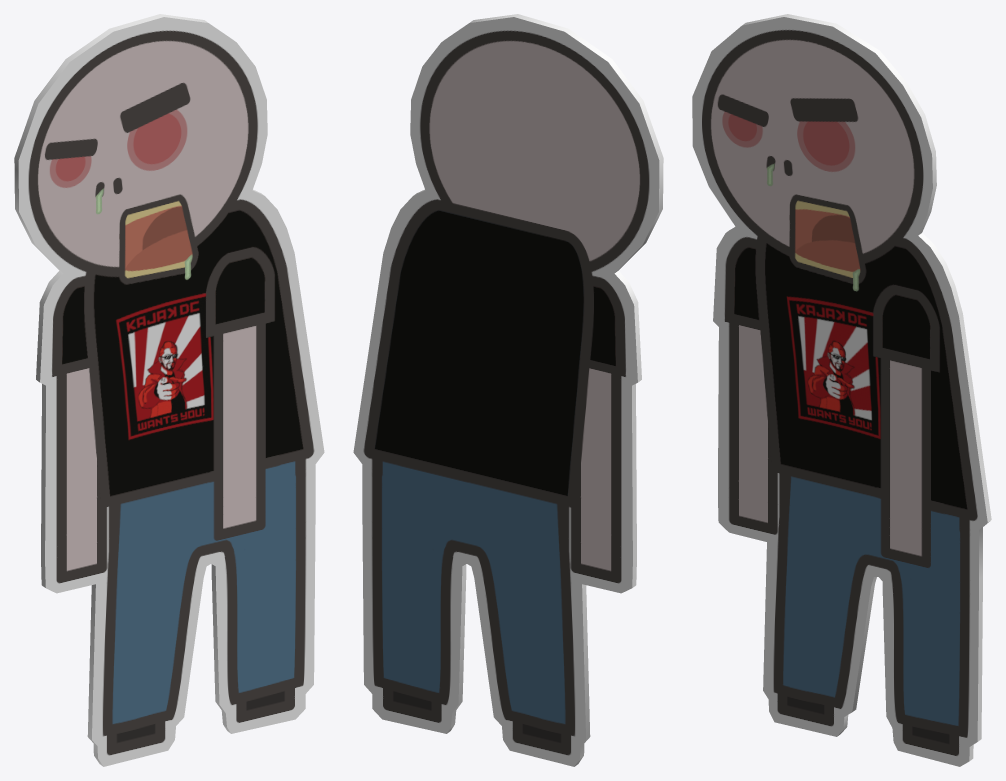
The model's file is PlayerMesh.FBX.
The picture shows the model from 3 angles, left to right: view 1: azimuth 30°, elevation 25°; view 2: azimuth 150°, elevation 25°; view 3: azimuth 330°, elevation 25°; orthographic projection. The views are drawn at different scales.
Visible parts, largest first — view 1: SiemaPL; view 2: SiemaPL; view 3: SiemaPL.
Part boxes in pixels (x1,y1,x2,y2): SiemaPL: [14, 14, 324, 766]; SiemaPL: [353, 14, 663, 766]; SiemaPL: [692, 14, 991, 766].
Bounding box in the file's own units: 36.57 × 83.96 × 0.8462.
Materials: 2 (2 with a texture image).
